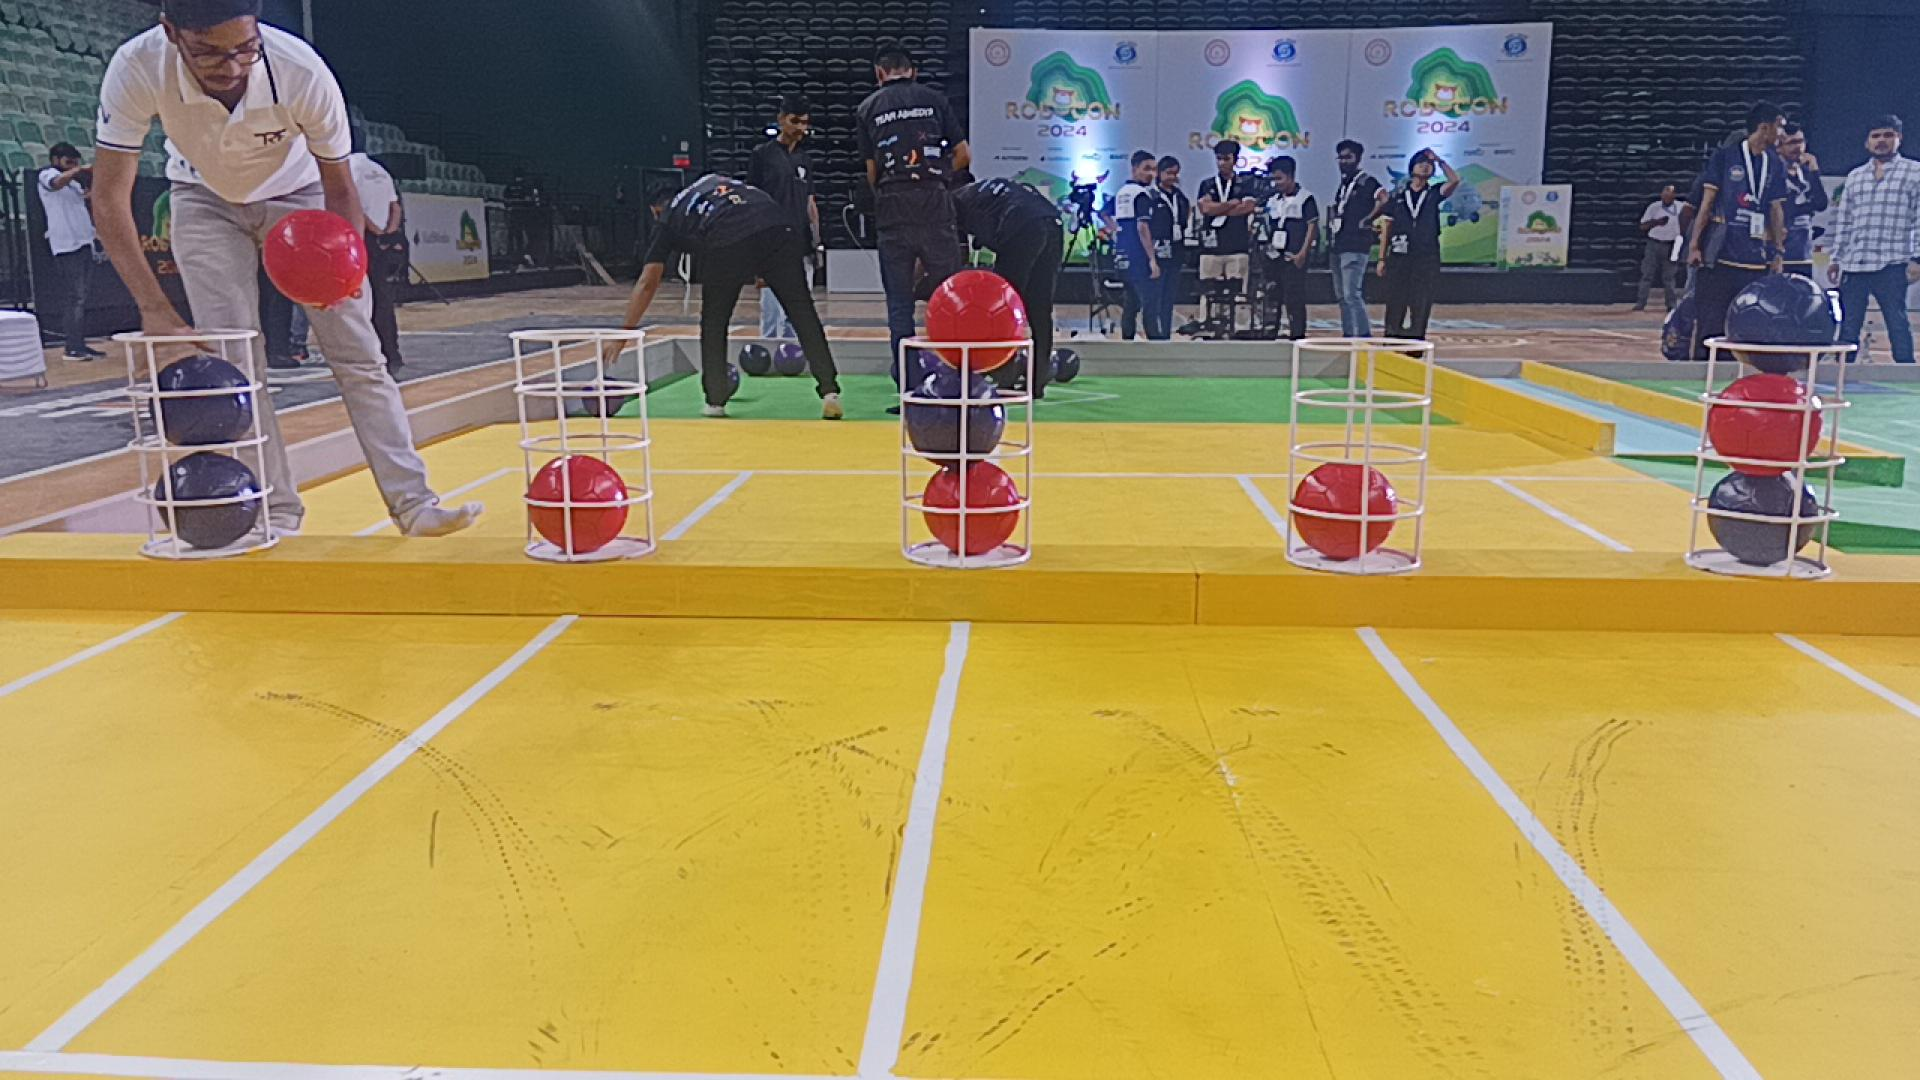dhoka: (1727, 272, 1840, 373), (903, 363, 1009, 468), (1708, 471, 1820, 568), (153, 452, 261, 550), (146, 356, 258, 446)
laale: (1708, 372, 1824, 477), (923, 268, 1025, 373), (1292, 463, 1398, 560), (526, 456, 626, 554), (920, 463, 1018, 554)
